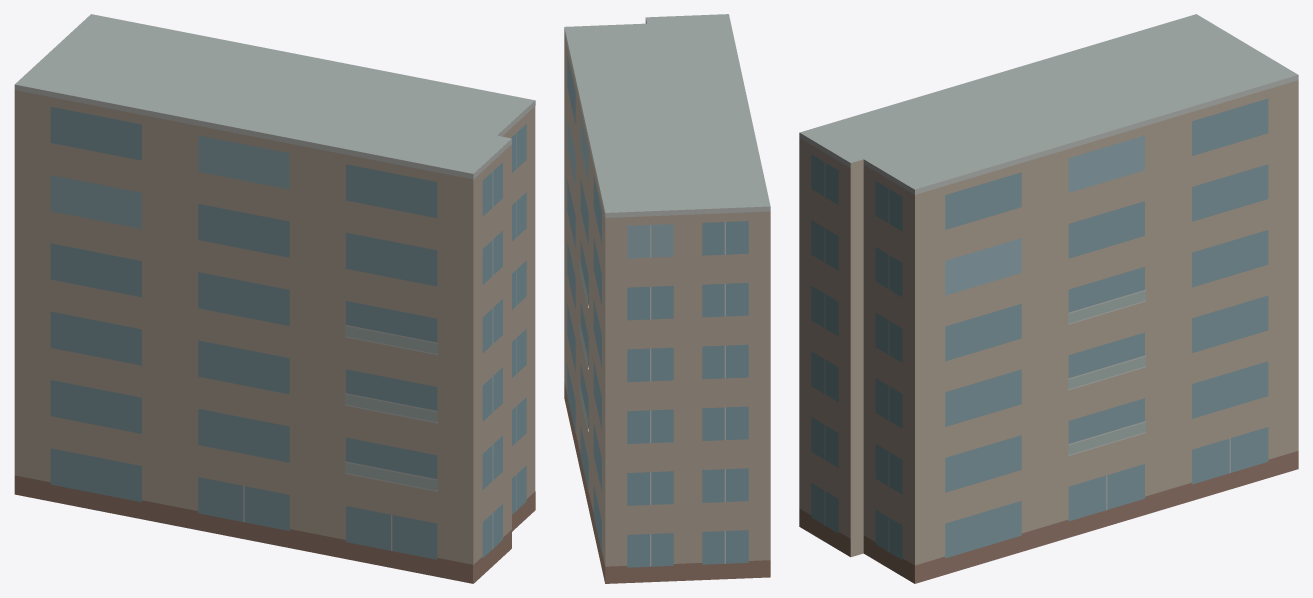
Rendered from survey-upis-32527811.glb.
The picture shows the model from 3 angles, left to right: view 1: azimuth 30°, elevation 25°; view 2: azimuth 150°, elevation 25°; view 3: azimuth 270°, elevation 25°; orthographic projection. The views are drawn at different scales.
Parts seen in each view (by area): view 1: survey-upis-32527811.tmp; view 2: survey-upis-32527811.tmp; view 3: survey-upis-32527811.tmp.
Part boxes in pixels (<box>): survey-upis-32527811.tmp: <box>14,14,535,583</box>; survey-upis-32527811.tmp: <box>564,14,770,583</box>; survey-upis-32527811.tmp: <box>799,14,1298,583</box>.
Bounding box in the file's own units: 17.31 × 18.1 × 20.78.
